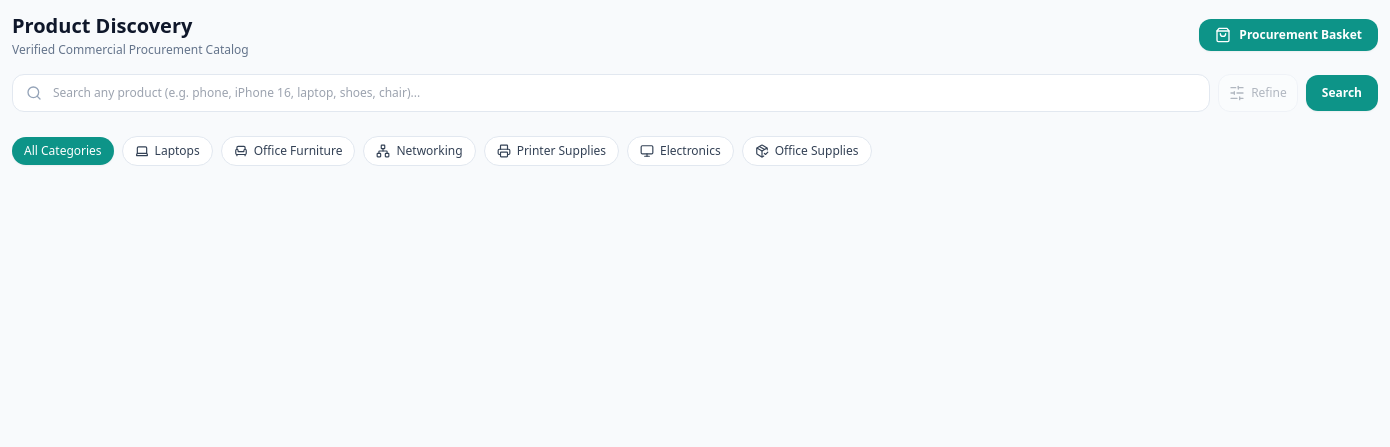
it: Product Discovery & Refinement UI Journey › renders honest error notice with retry button when search fails
The image size is (1390, 447).
Replace the text in the field with placeholder "Search any product" with "monitor" at (611, 93), box [12,74,1210,112]
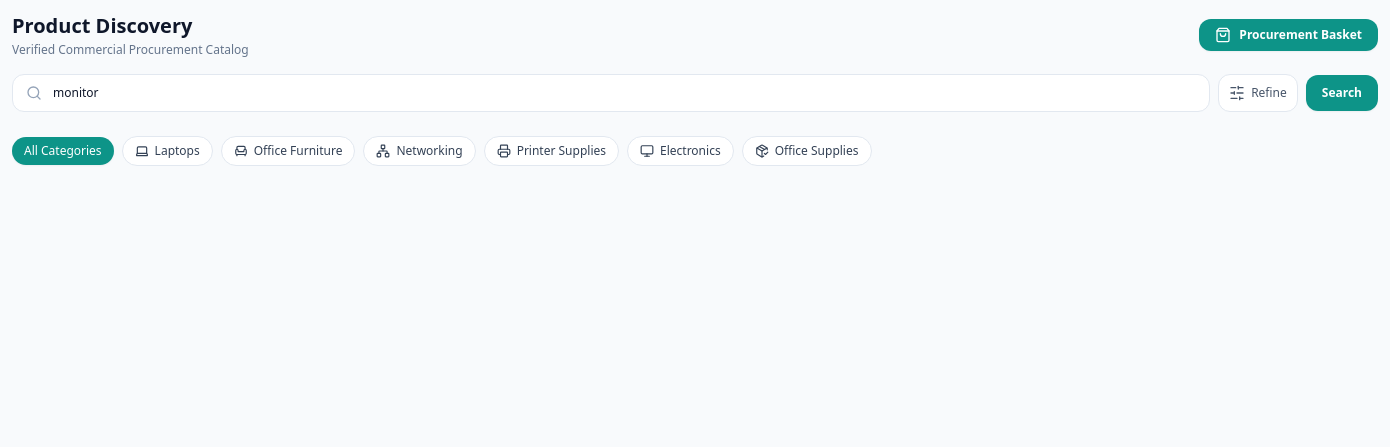
Click the button "Search".
click(1342, 93)  # box [1306,75,1378,111]
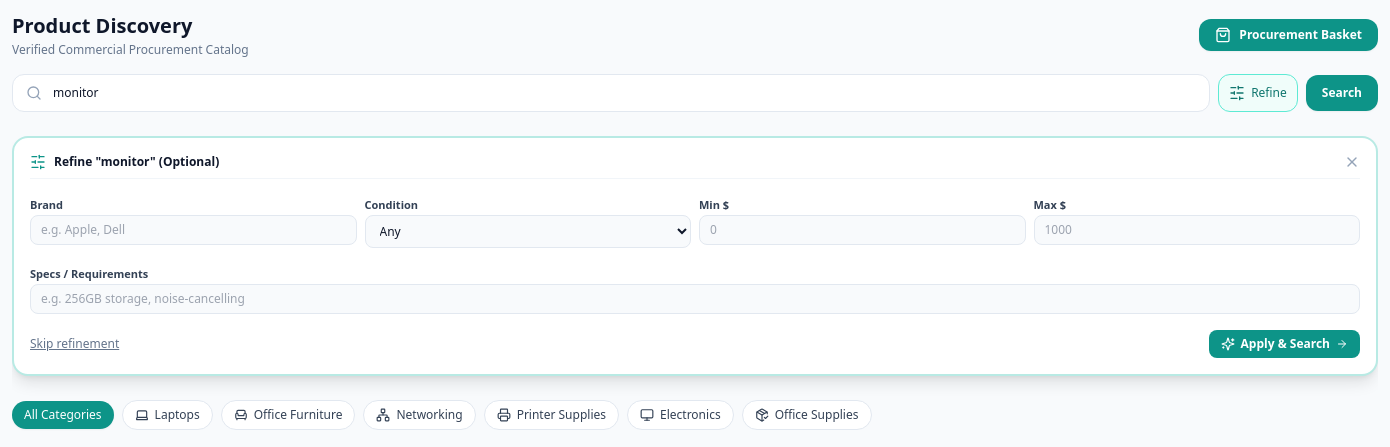
Click the button "Skip refinement".
click(75, 344)  # box [30,336,119,352]
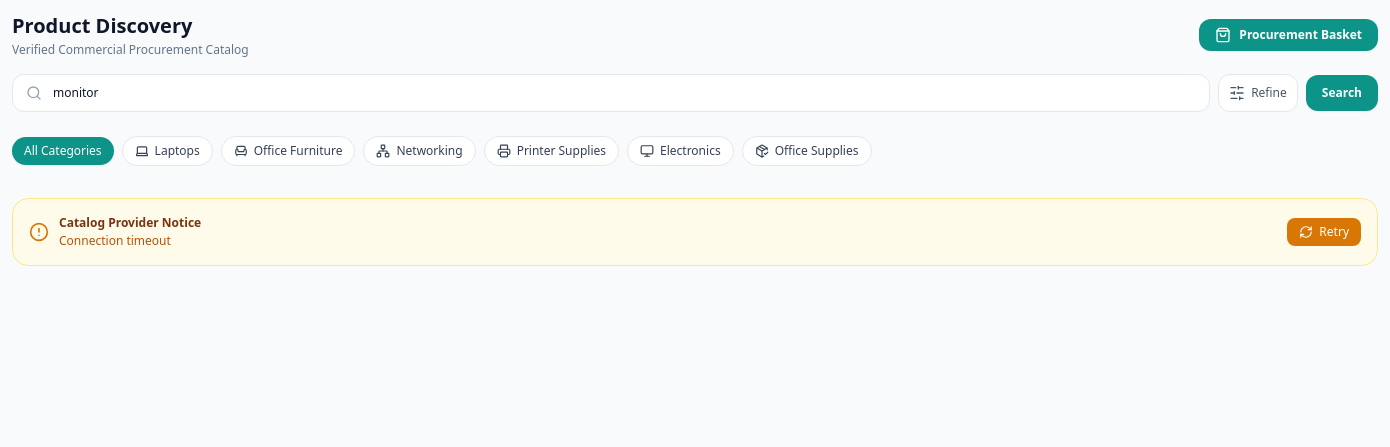
Now the text "Connection timeout" is shown, box [59,232,171,249]
Now the button "Retry" is shown, box [1287,218,1361,246]
